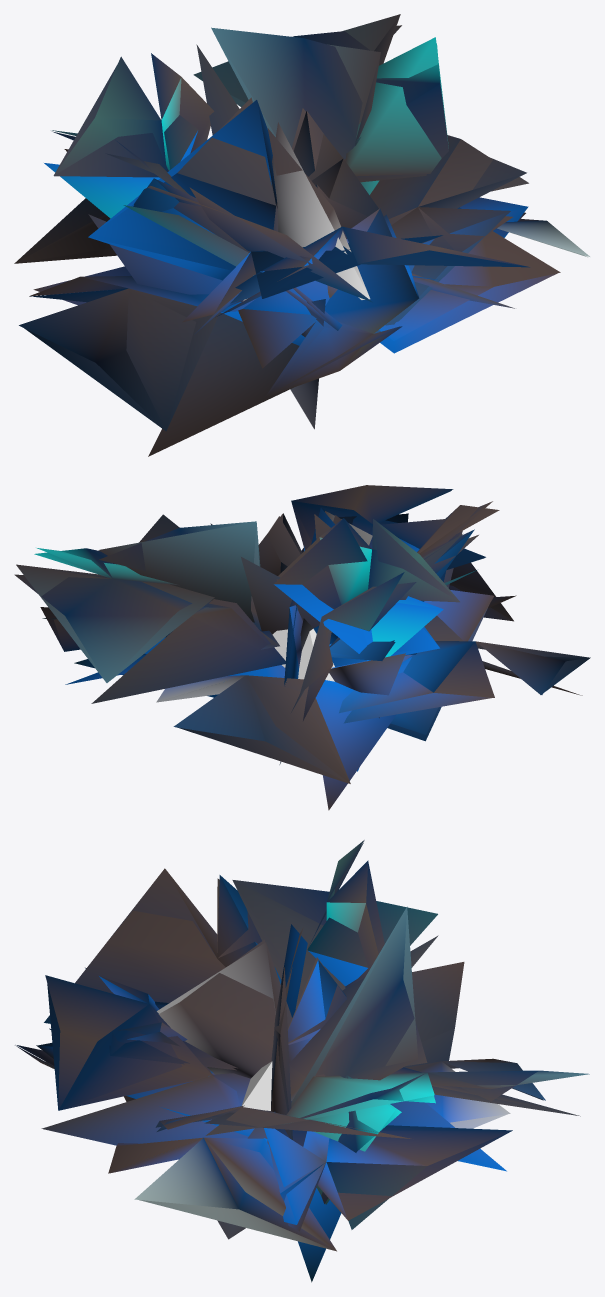
File: shrub_c.dae
3 renders of one model, top to bottom at view 1: azimuth 30°, elevation 25°; view 2: azimuth 150°, elevation 25°; view 3: azimuth 270°, elevation 25°, orthographic. The views are drawn at different scales.
Visible parts, largest first — view 1: shrub_c_a450, shrub_c_a150; view 2: shrub_c_a450, shrub_c_a150, Colmesh-1; view 3: shrub_c_a450, shrub_c_a150, Colmesh-1.
Part boxes in pixels (left/top/right/bottom): shrub_c_a450: left=14, top=25, right=589, bottom=456; shrub_c_a150: left=14, top=14, right=587, bottom=430; shrub_c_a450: left=14, top=485, right=590, bottom=810; shrub_c_a150: left=16, top=490, right=589, bottom=803; Colmesh-1: left=272, top=628, right=334, bottom=681; shrub_c_a450: left=15, top=840, right=588, bottom=1282; shrub_c_a150: left=16, top=842, right=589, bottom=1272; Colmesh-1: left=241, top=1061, right=272, bottom=1110.
Size of the model in its own units: 7.53 by 7.2 by 4.71.
